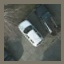car: (16, 20, 43, 49), (33, 5, 59, 34)
